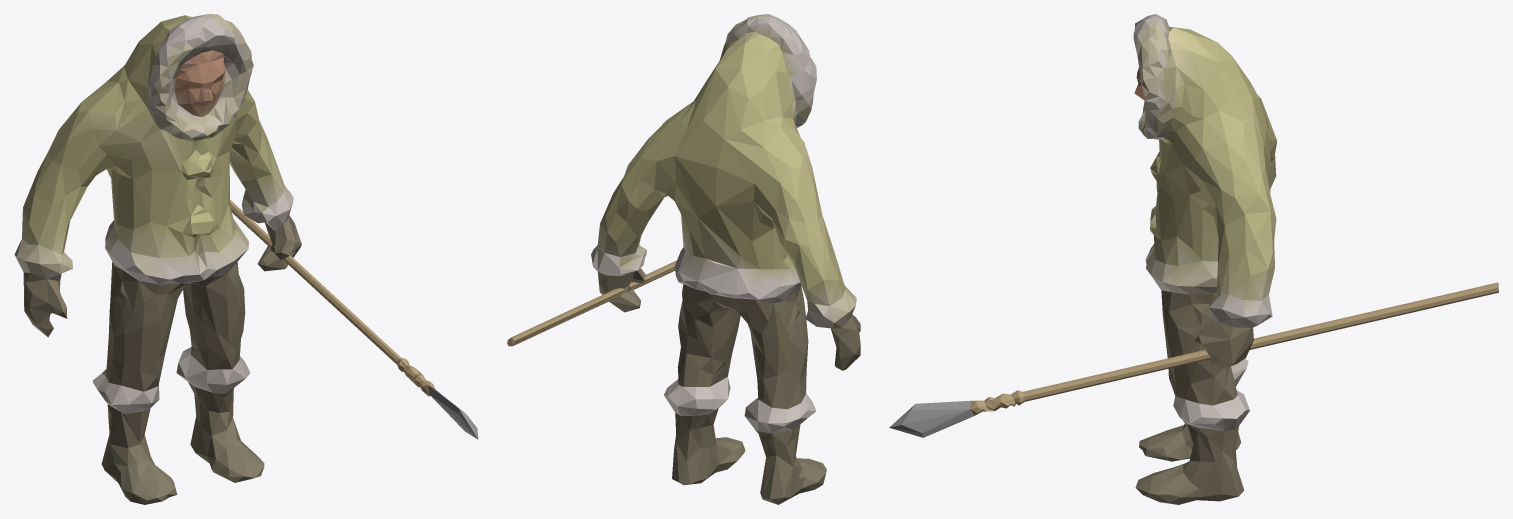
Rendered from eskimo.gltf.
3 views of the same model, side by side, from view 1: azimuth 30°, elevation 25°; view 2: azimuth 150°, elevation 25°; view 3: azimuth 270°, elevation 25° (orthographic). The views are drawn at different scales.
Visible parts, largest first — view 1: LPeskimo; view 2: LPeskimo; view 3: LPeskimo.
Boxes of the visible parts, x1,y1,x2,y2 form: LPeskimo: [14, 14, 478, 504]; LPeskimo: [507, 14, 860, 504]; LPeskimo: [889, 14, 1498, 504].
Size of the model in its own units: 3.47 by 5.57 by 6.74.
